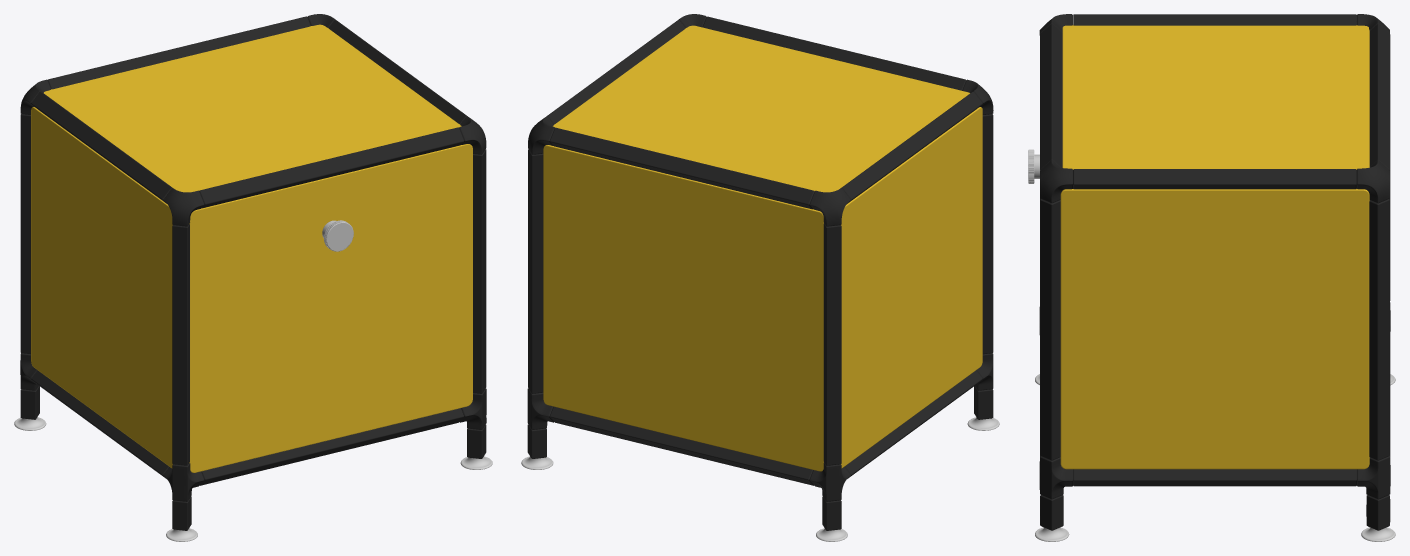
3 views of the same model, side by side, from view 1: azimuth 30°, elevation 25°; view 2: azimuth 150°, elevation 25°; view 3: azimuth 270°, elevation 25° (orthographic). The views are drawn at different scales.
Parts seen in each view (by area): view 1: 374x329x329; view 2: 374x329x329; view 3: 374x329x329.
Part boxes in pixels (x1,y1,x2,y2): 374x329x329: (14, 14, 492, 541); 374x329x329: (521, 14, 999, 541); 374x329x329: (1028, 14, 1395, 541).
Bounding box in the file's own units: 0.4639 × 0.4683 × 0.4256.
